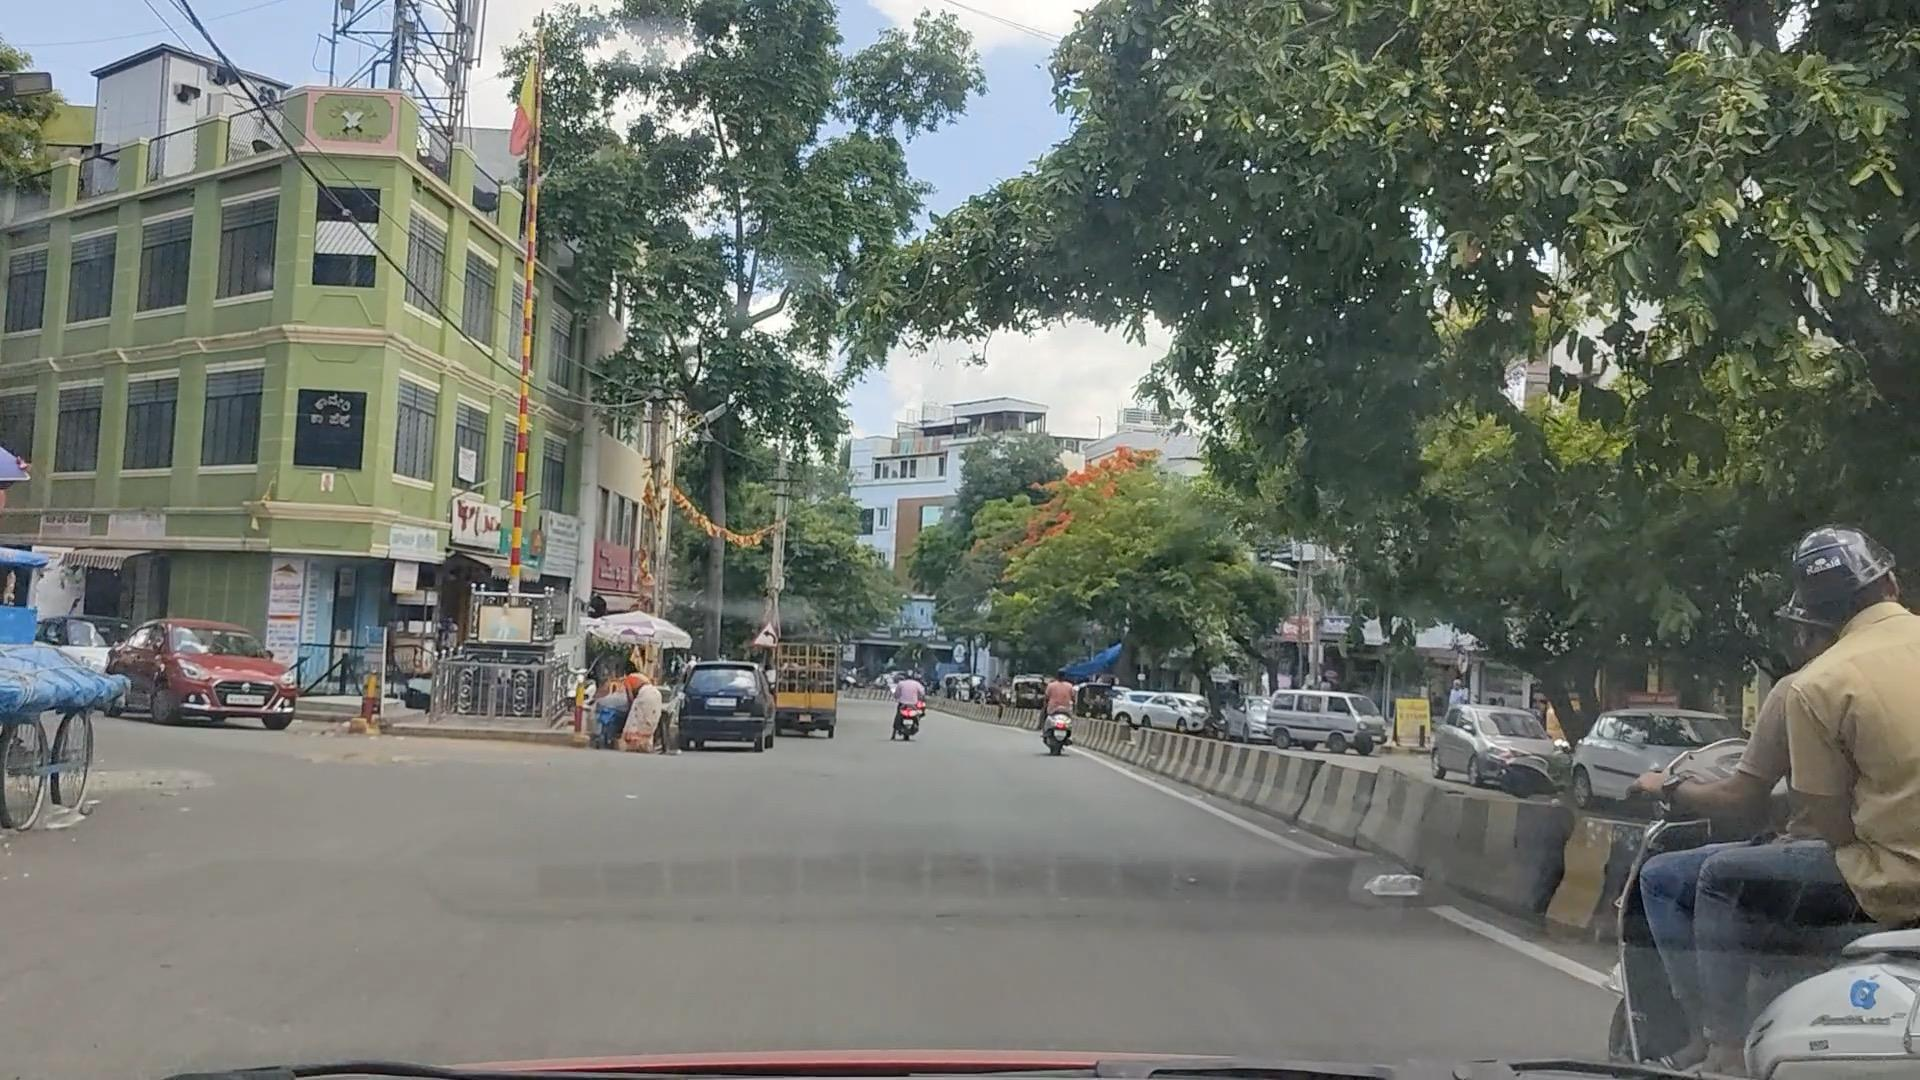LMV: (1663, 563, 1920, 1080), (695, 663, 766, 741)
